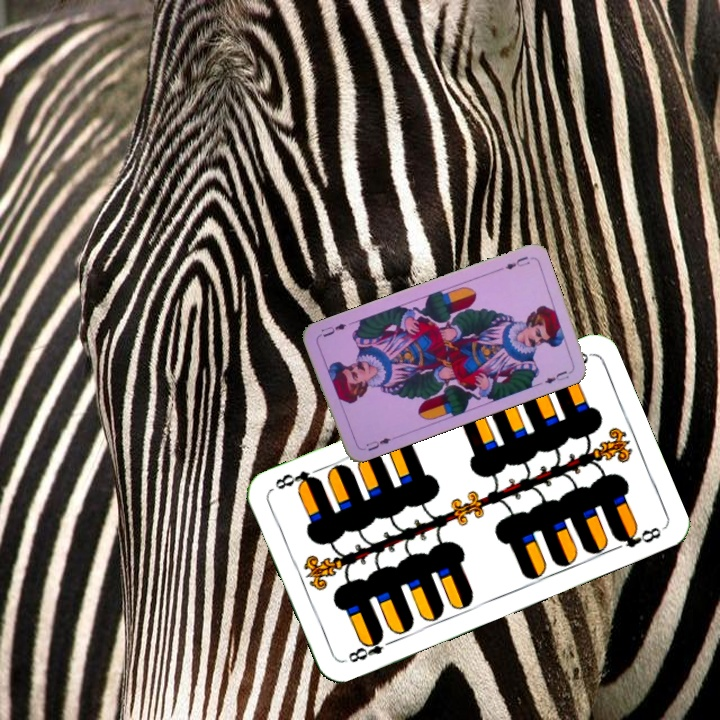E8: (344, 630, 398, 665)
EU: (493, 252, 532, 274), (362, 433, 398, 454)
